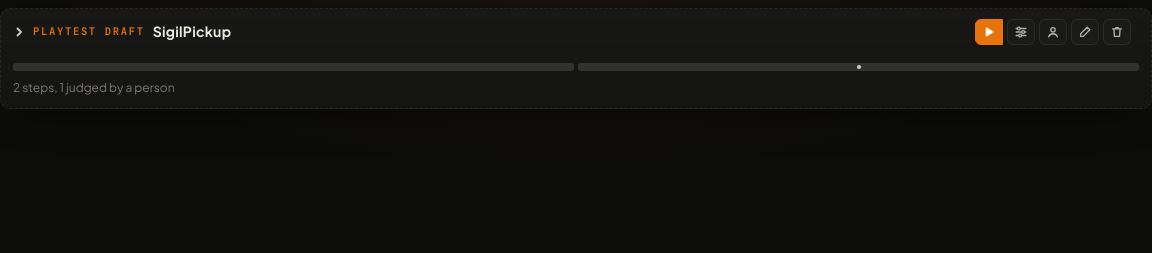
Test: a draft Playtest card › Delete asks once more, then deletes the script
This screenshot has width=1152, height=253.
Click the button "Playtest draft SigilPickup". click: (122, 32)
box: [13,21,231,43]
(page scrolled)
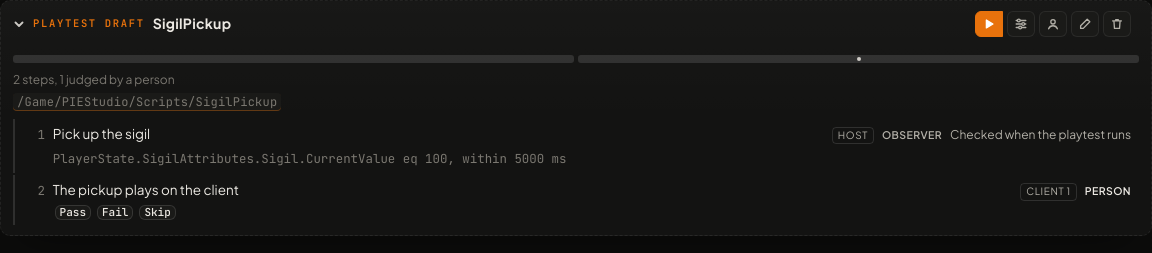
Click the button named "Delete". click: (1117, 24)
box: [1103,11,1131,37]
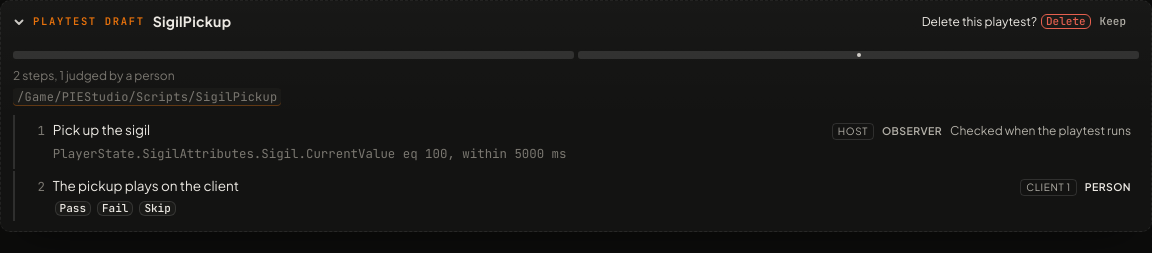
Click the button "Delete". click: (1066, 22)
box: [1041,14,1091,30]
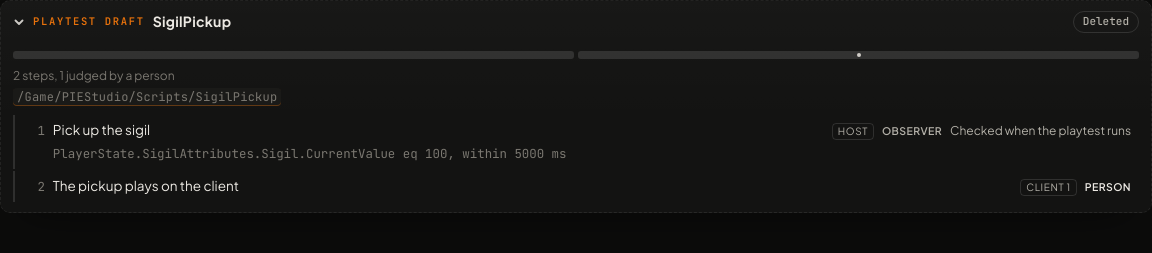
Expected: the message reads "Deleted", [1083,14,1129,28]
